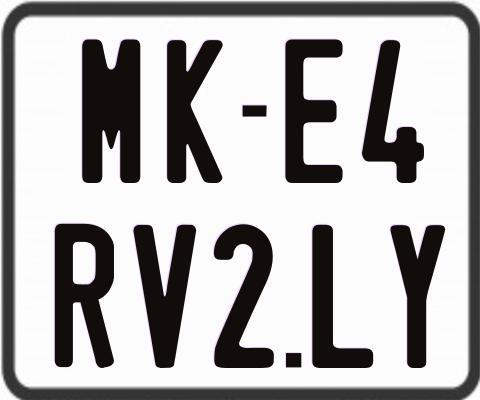2: (214, 224, 279, 372)
4: (360, 37, 426, 186)
E: (282, 38, 342, 183)
K: (167, 40, 228, 189)
L: (312, 223, 376, 371)
M: (80, 38, 141, 186)
R: (55, 222, 120, 366)
V: (133, 224, 196, 371)
Y: (390, 223, 445, 371)
